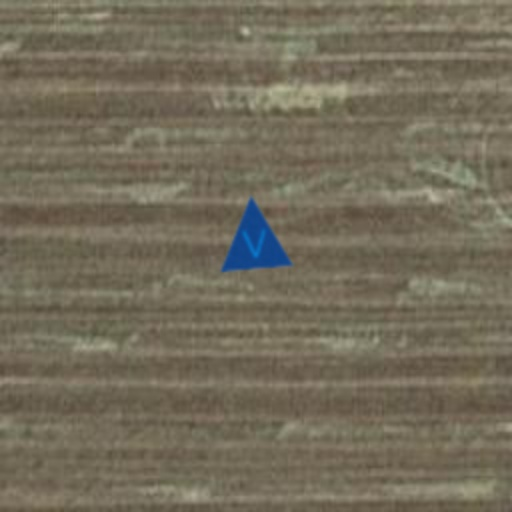triangle: (214, 192, 294, 272)
